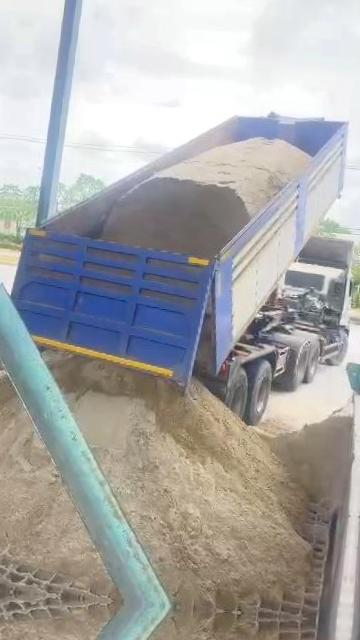sand: (53, 299, 308, 608), (0, 349, 118, 599), (101, 138, 310, 257), (269, 404, 352, 509)
